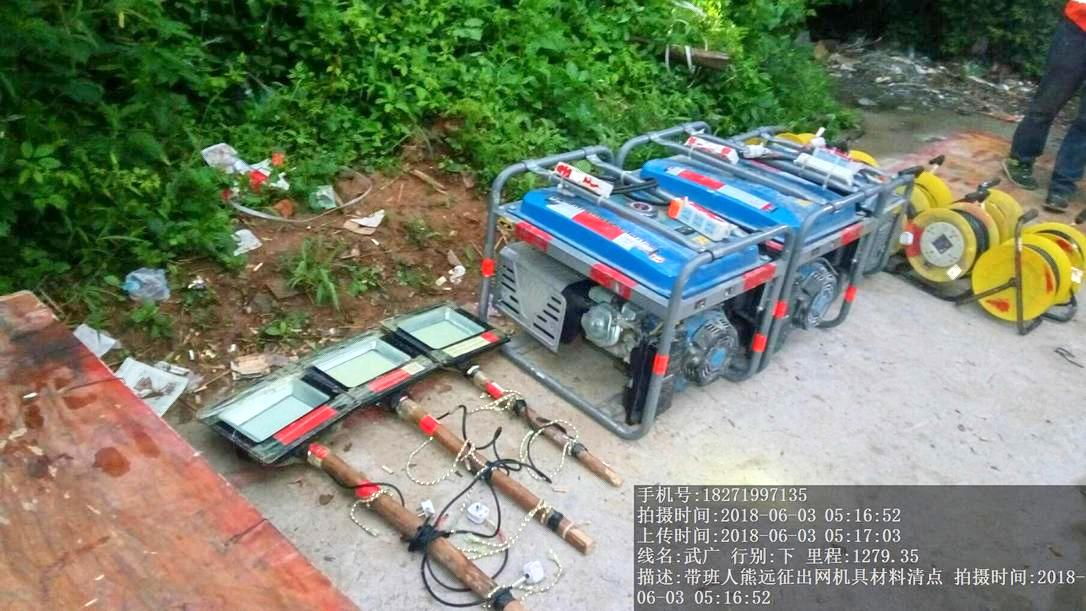DJ: (469, 142, 775, 440)
DX: (972, 232, 1073, 333)
